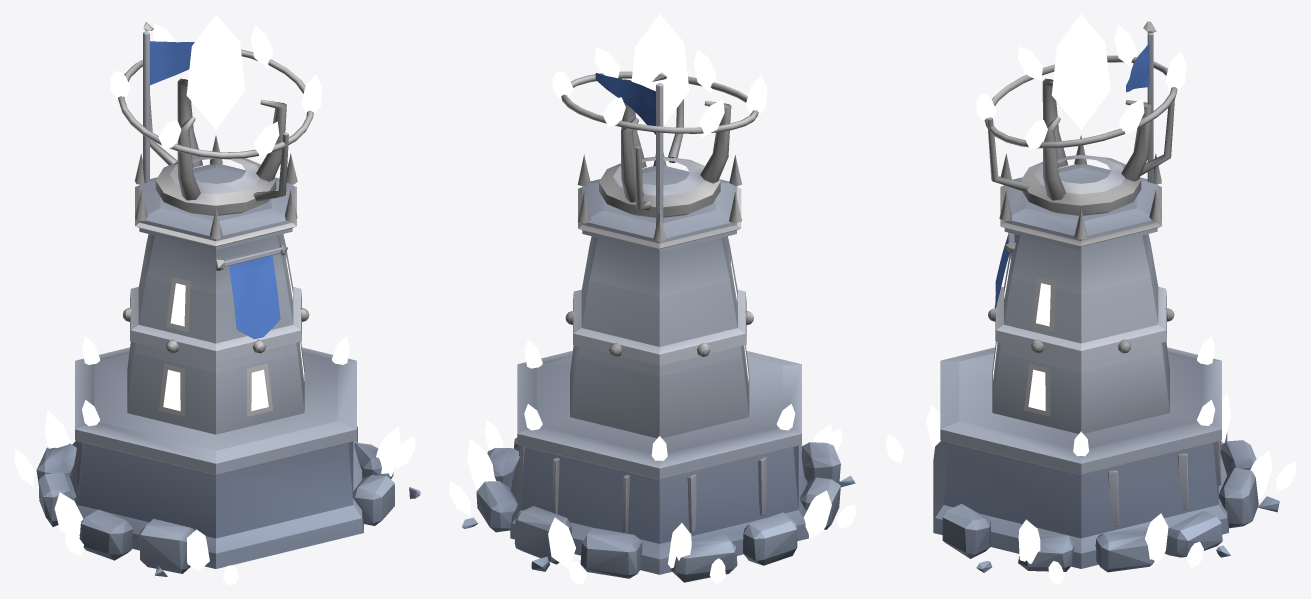
The model's file is frost_2_5.glb.
3 views of the same model, side by side, from view 1: azimuth 30°, elevation 25°; view 2: azimuth 150°, elevation 25°; view 3: azimuth 270°, elevation 25° (orthographic).
Parts seen in each view (by area): view 1: Tower, Turret; view 2: Tower, Turret; view 3: Tower, Turret.
Boxes of the visible parts, box(x1,y1,x2,y2) form: Tower: box(14, 22, 420, 584); Turret: box(110, 14, 322, 215); Tower: box(449, 72, 856, 584); Turret: box(552, 14, 767, 217); Tower: box(885, 21, 1296, 584); Turret: box(975, 14, 1186, 215).
Bounding box in the file's own units: 4.1 × 5.42 × 4.09.
